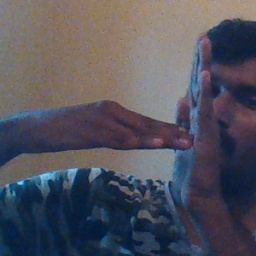Z: (108, 28, 224, 201)
